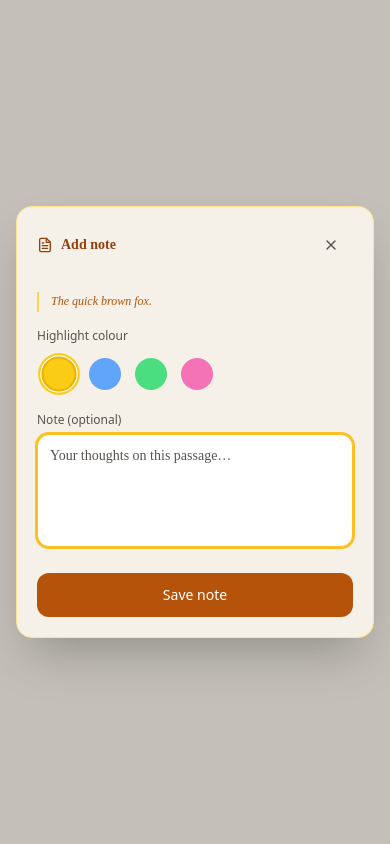
Test case: AnnotationToolbar close guard during async operations (issue #2406) › close button is disabled while save is in flight
Note: Trigger save
Click the button "Save note".
click(195, 595)  # box left=37, top=573, right=353, bottom=617
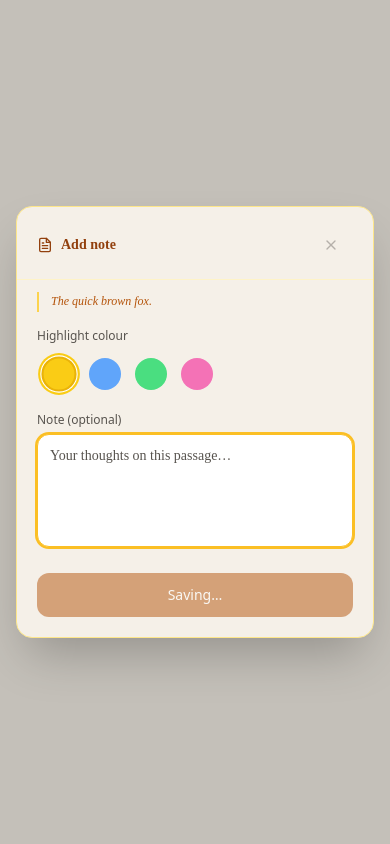
Expected: the button named "Close note editor" is disabled, left=309, top=223, right=353, bottom=267
